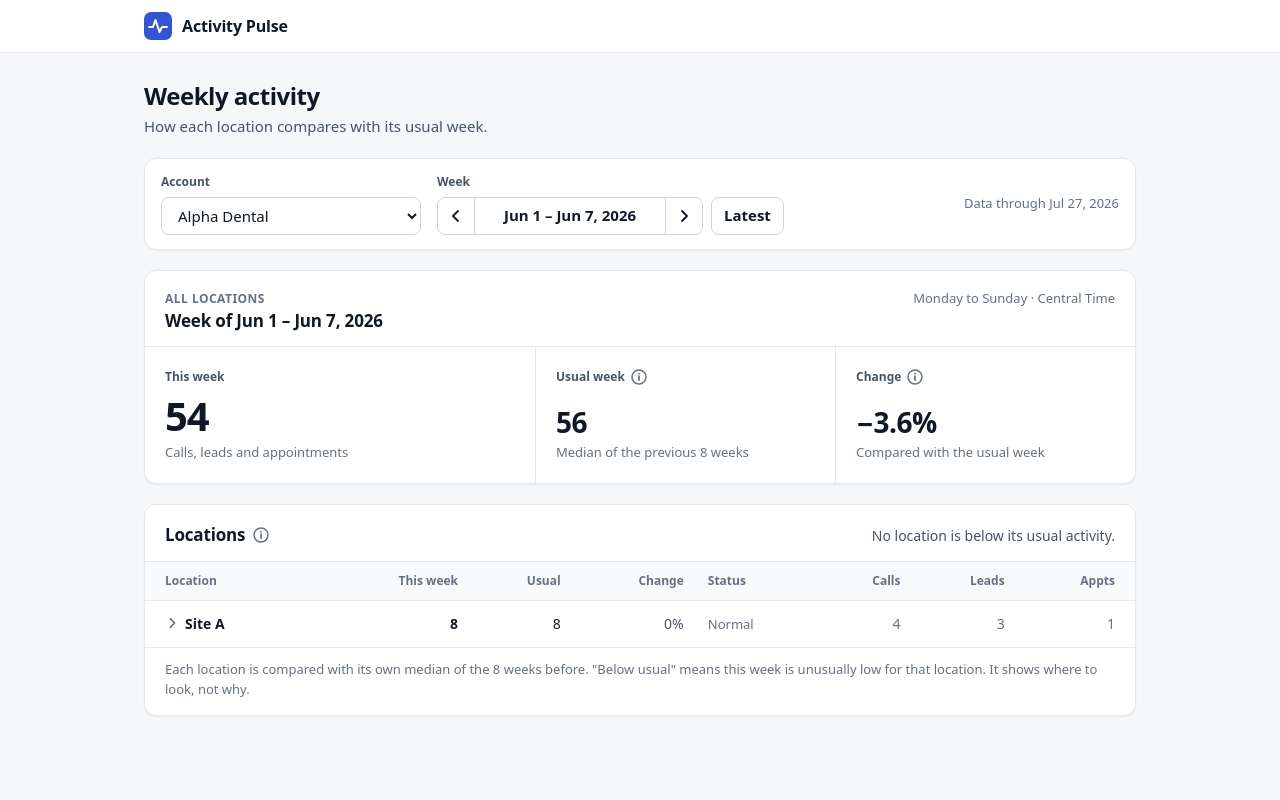
Test: week navigation › returns to the latest week with the Latest button
The width and height of the screenshot is (1280, 800).
Expected: the heading "Week of Jun 1 – Jun 7, 2026" is shown, [165,310,383,332]
What coordinates should you click on to do the following:
click the button "Latest"
I would click on:
 (747, 216)
Its box is [711,196,784,234].
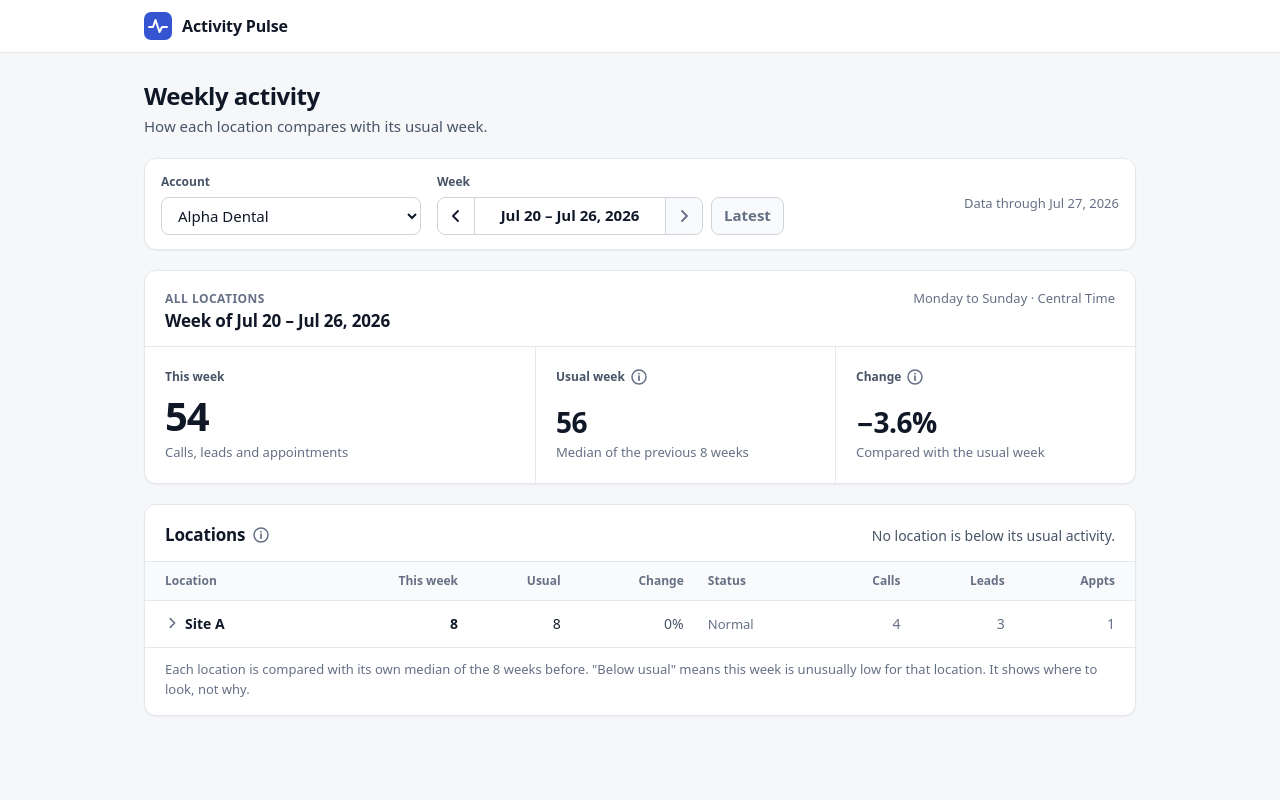
Expected: the heading "Week of Jul 20 – Jul 26, 2026" is shown, [165,310,390,332]
Expected: the button "Latest" is disabled, [711,196,784,234]
